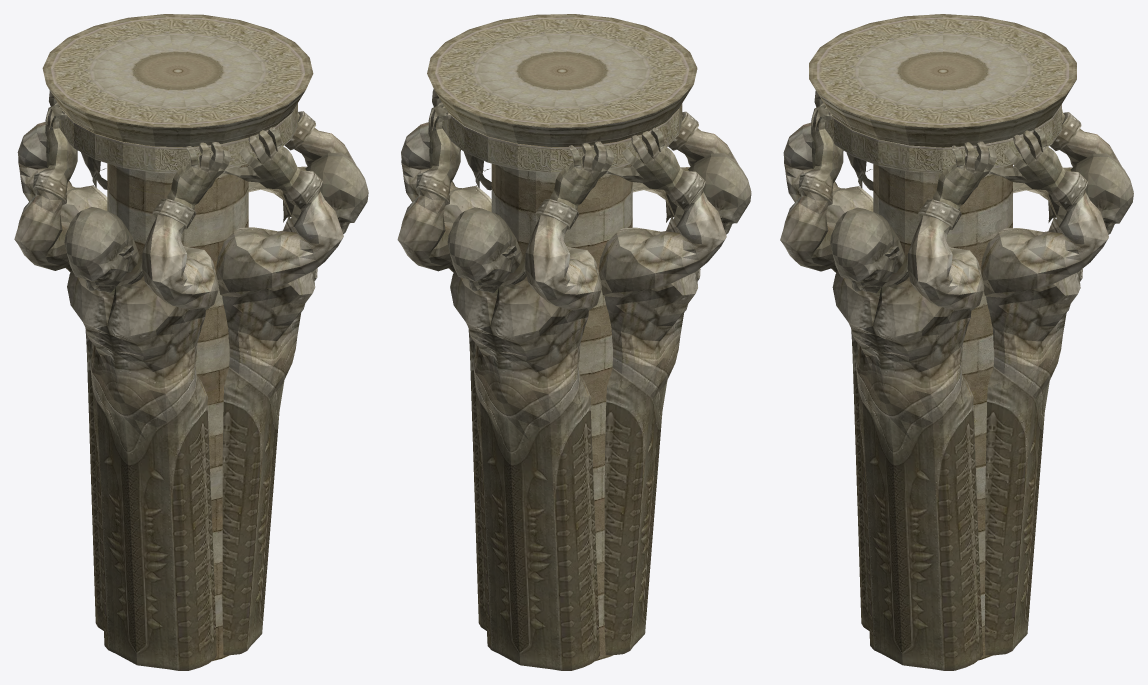
The model's file is TW2_5_FOUNTAIN_01-transformed.glb.
3 views of the same model, side by side, from view 1: azimuth 30°, elevation 25°; view 2: azimuth 150°, elevation 25°; view 3: azimuth 270°, elevation 25° (orthographic).
Visible parts, largest first — view 1: default; view 2: default; view 3: default.
Boxes of the visible parts, <box> form: default: <box>14,14,368,670</box>; default: <box>397,14,751,670</box>; default: <box>780,14,1133,670</box>.
Bounding box in the file's own units: 2.09 × 3.4 × 1.93.
2 materials, 2 textured.
